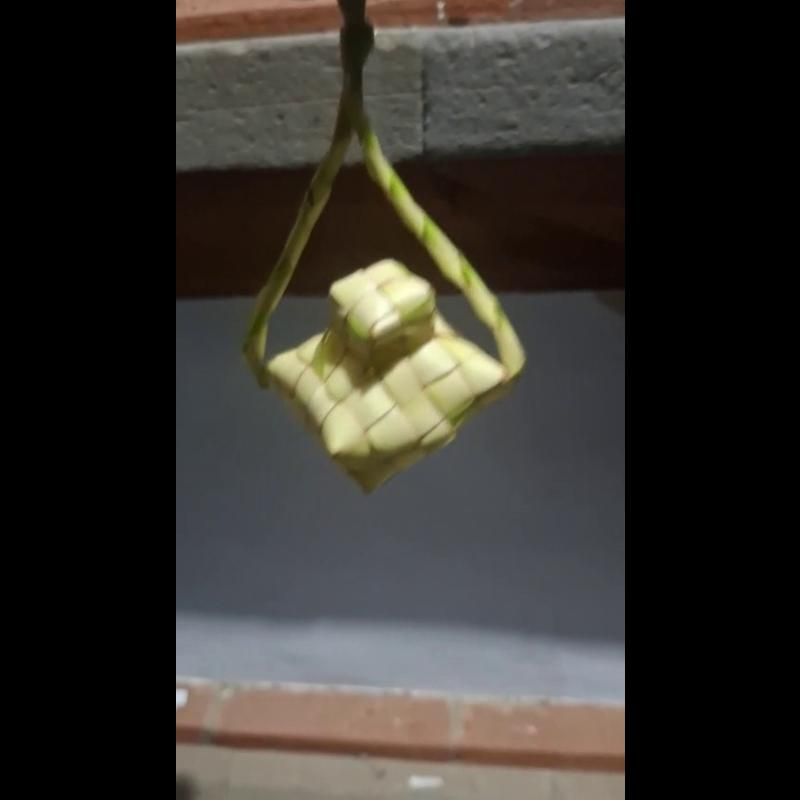Tipat Gong: (241, 2, 528, 502)
